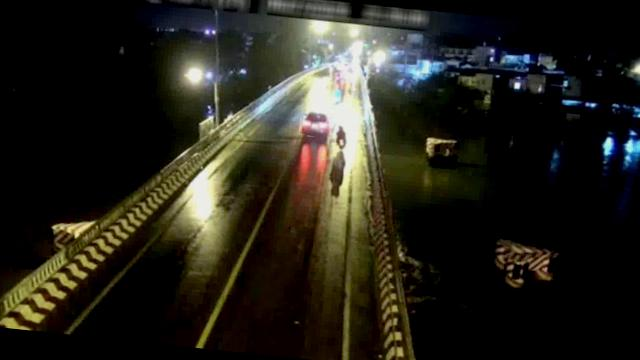Bike: (333, 125, 348, 151)
Car: (299, 108, 337, 139)
